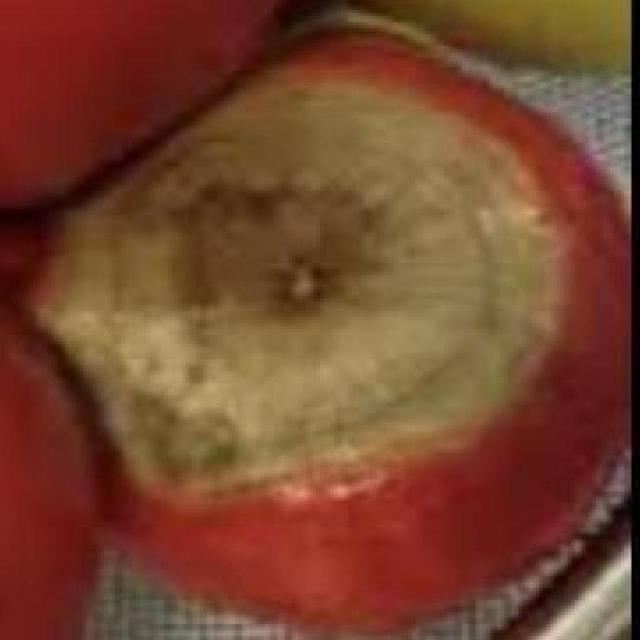Blossom End Rot Fruit: (17, 51, 372, 338)
